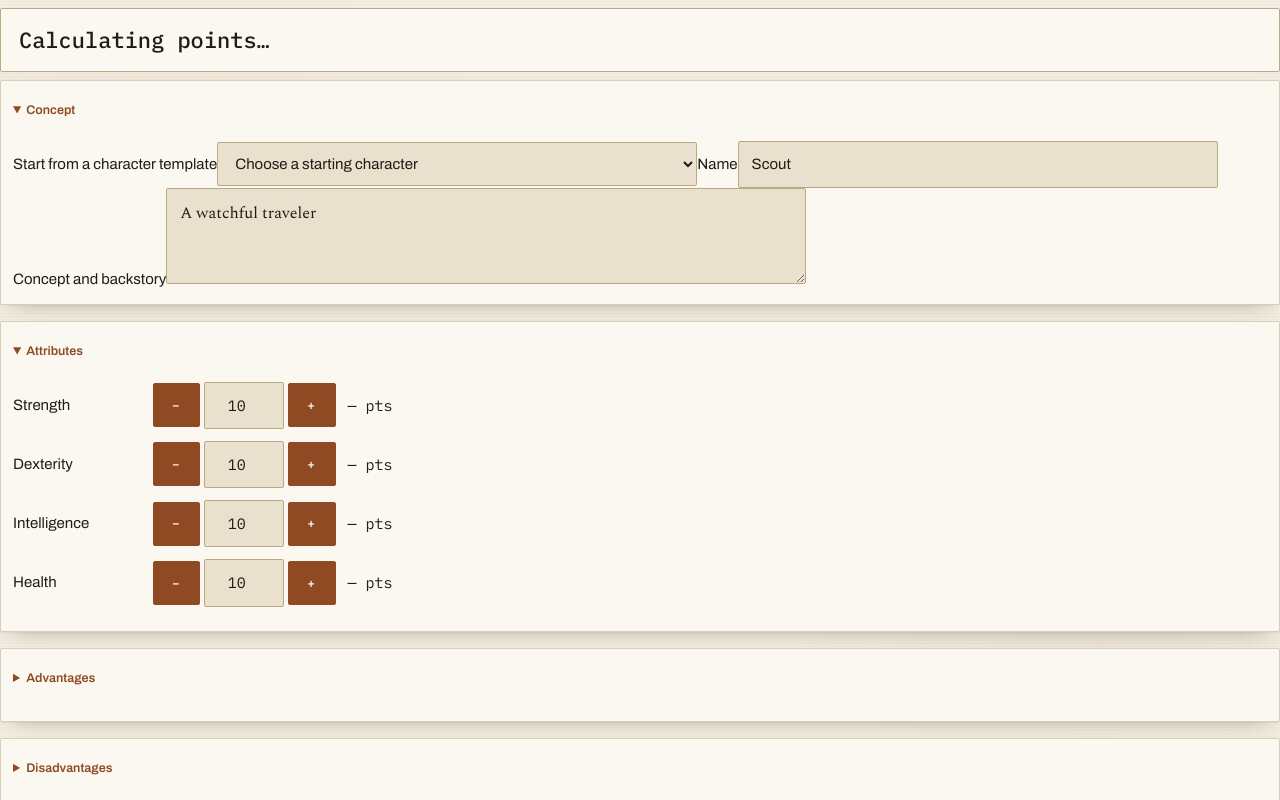
Test: keeps character controls uniquely labelled in a multi-character party and template changes editable
Replace the text in the field labelled "Name" with "Custom hero" at (978, 165), box [738,141,1218,188]
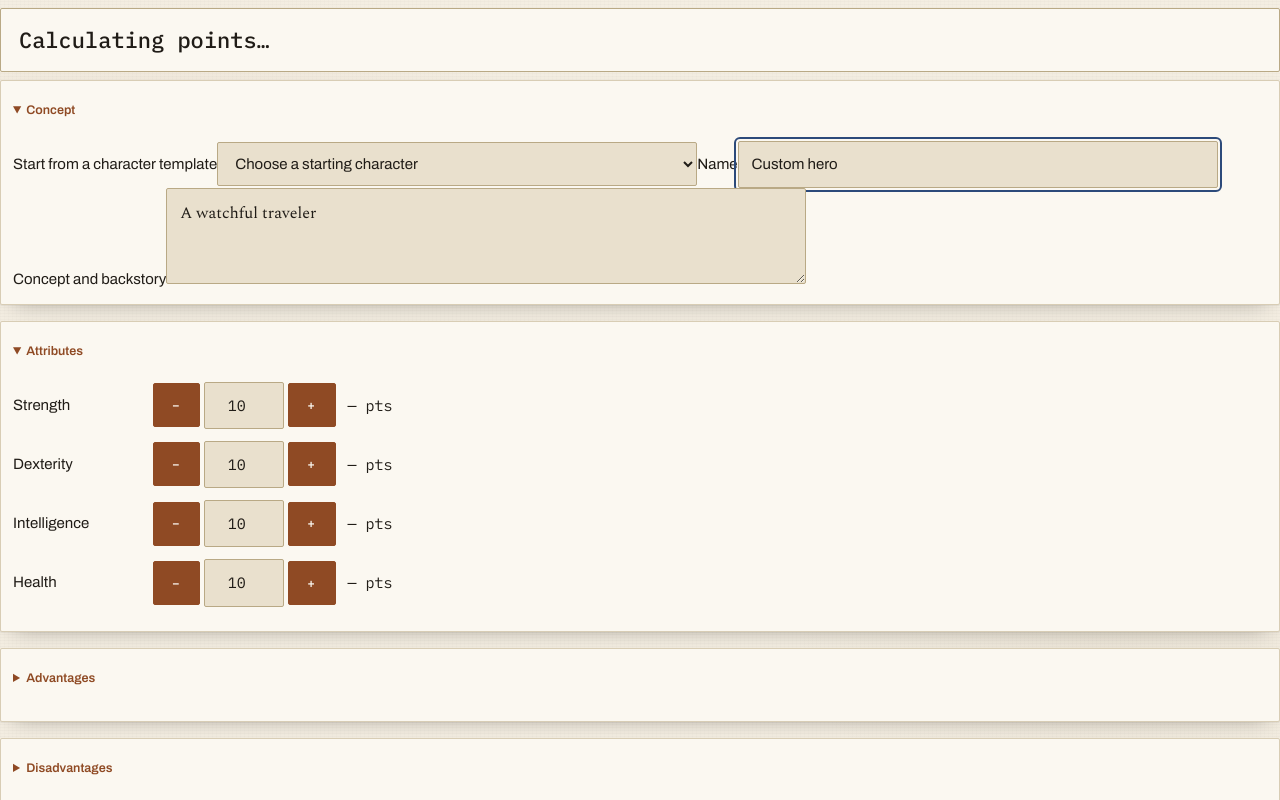
Select "Scout" in the dropdown labelled "Start from a character template" at (457, 164), box [217,142,697,186]
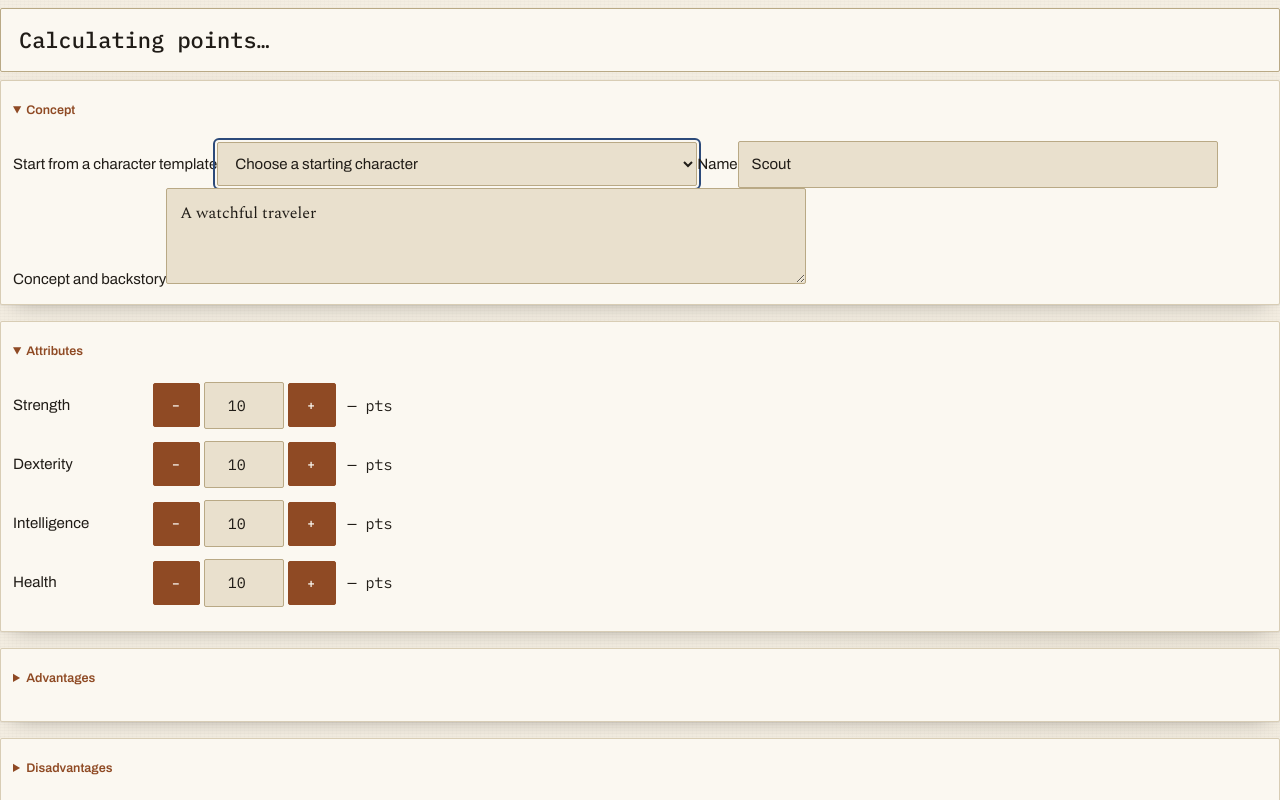
Now the field labelled "Name" holds "Scout", box [738,141,1218,188]
